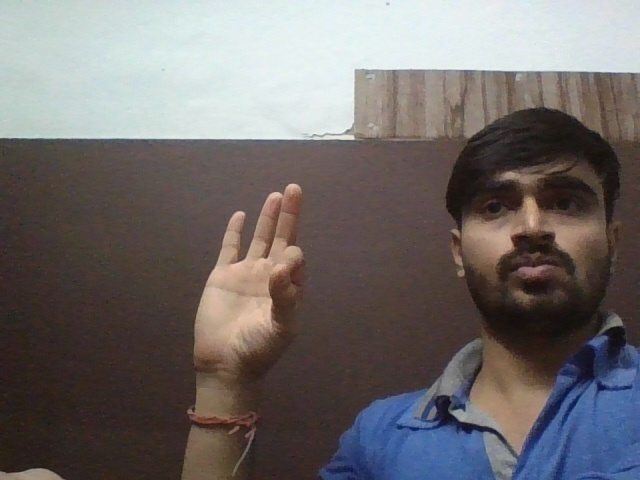F: (187, 179, 330, 380)
